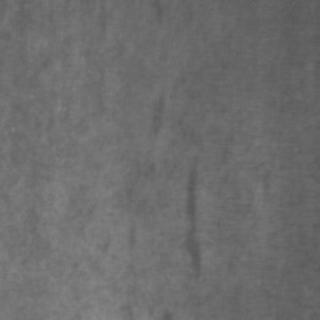inclusion: (175, 148, 211, 284), (138, 82, 170, 144)
